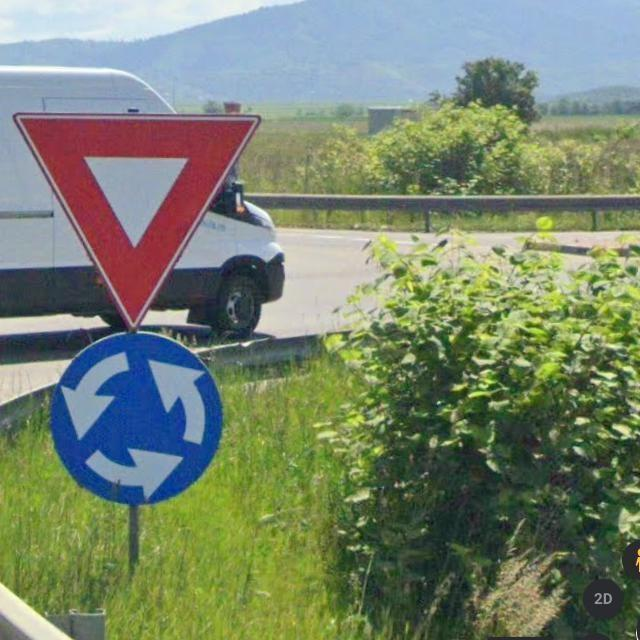prio_give_way: (13, 110, 262, 323)
